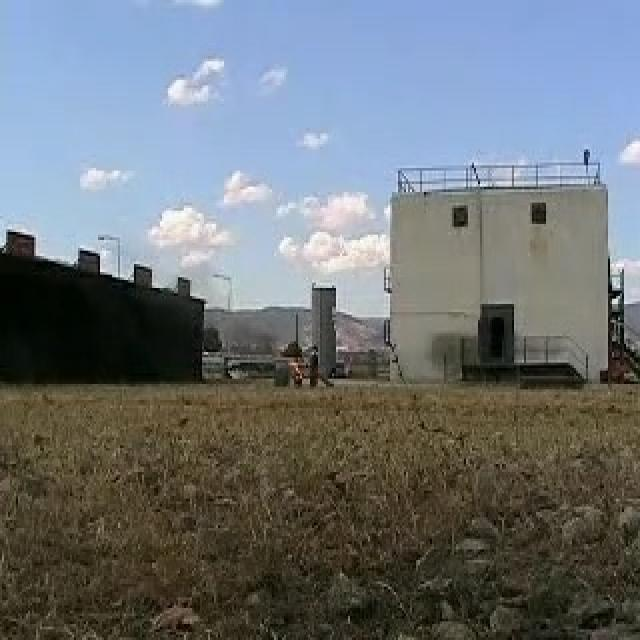fire: (286, 356, 311, 387)
